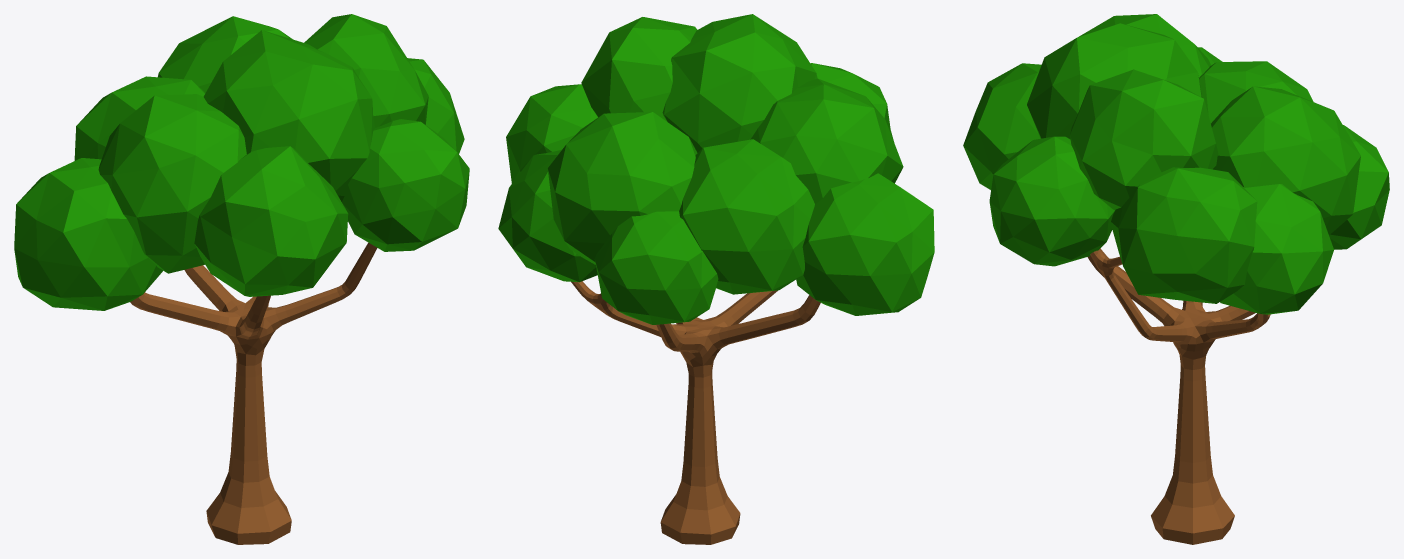
The model's file is tree5.fbx.
3 views of the same model, side by side, from view 1: azimuth 30°, elevation 25°; view 2: azimuth 150°, elevation 25°; view 3: azimuth 270°, elevation 25° (orthographic). The views are drawn at different scales.
Visible parts, largest first — view 1: Icosphere.008, Cube.002; view 2: Icosphere.008, Cube.002; view 3: Icosphere.008, Cube.002.
Boxes of the visible parts, <box> form: Icosphere.008: <box>14,14,469,310</box>; Cube.002: <box>130,242,377,544</box>; Icosphere.008: <box>498,14,934,324</box>; Cube.002: <box>571,281,820,544</box>; Icosphere.008: <box>963,14,1389,314</box>; Cube.002: <box>1087,248,1270,544</box>.
Size of the model in its own units: 1272 by 1471 by 1137.
